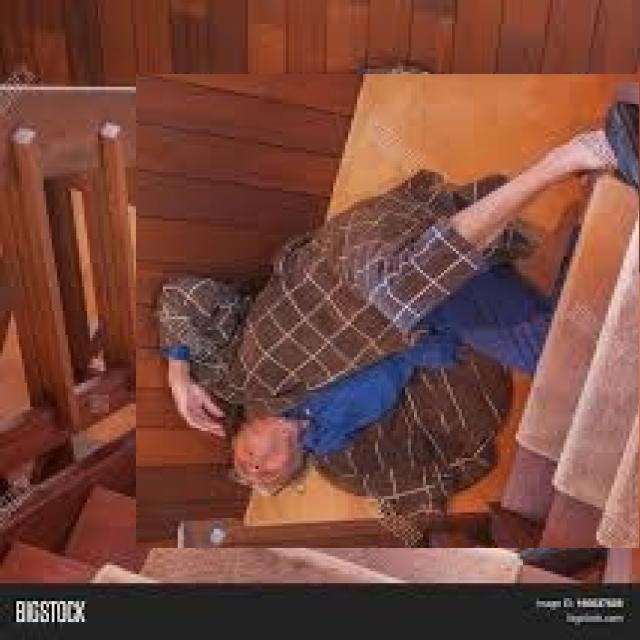Fall: (137, 88, 640, 523)
